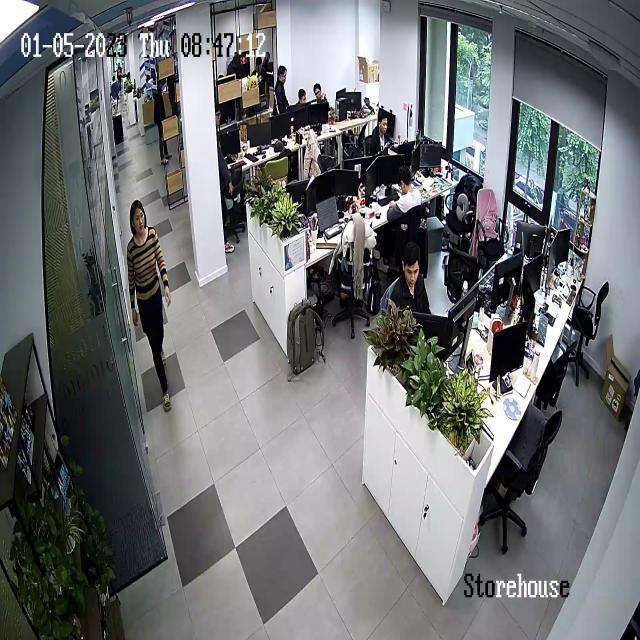person: (127, 200, 172, 414), (382, 241, 432, 315), (391, 164, 425, 214), (364, 107, 394, 156), (275, 65, 294, 114), (312, 82, 327, 102), (297, 86, 310, 107)
